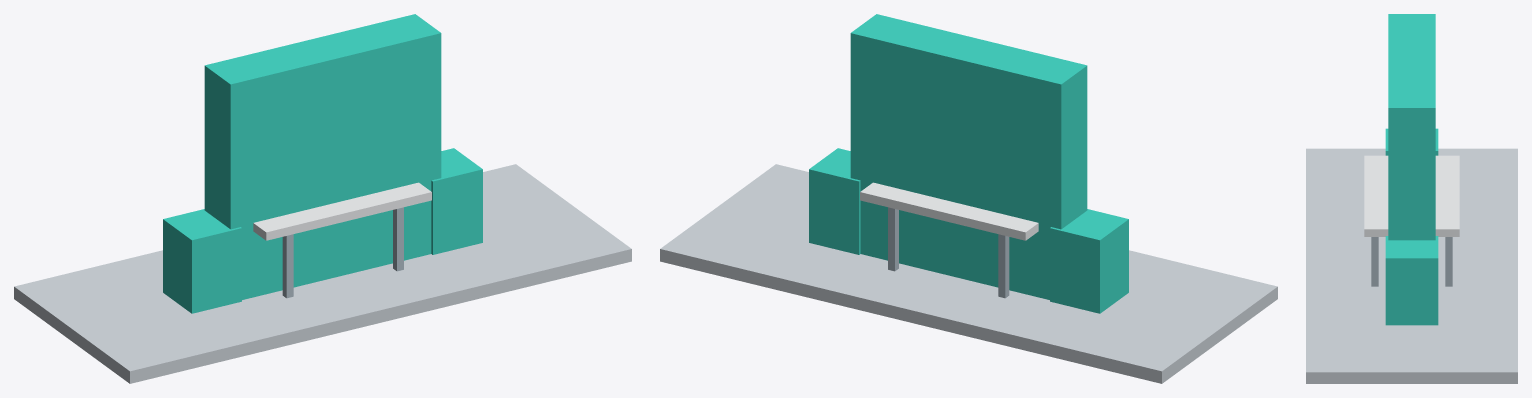
The picture shows the model from 3 angles, left to right: view 1: azimuth 30°, elevation 25°; view 2: azimuth 150°, elevation 25°; view 3: azimuth 270°, elevation 25°; orthographic projection. The views are drawn at different scales.
Parts seen in each view (by area): view 1: Exhibition Booth Concept; view 2: Exhibition Booth Concept; view 3: Exhibition Booth Concept.
Part boxes in pixels (x1,y1,x2,y2): Exhibition Booth Concept: (14, 14, 631, 383); Exhibition Booth Concept: (660, 14, 1277, 383); Exhibition Booth Concept: (1306, 14, 1517, 383).
Bounding box in the file's own units: 5 × 2.2 × 2.
